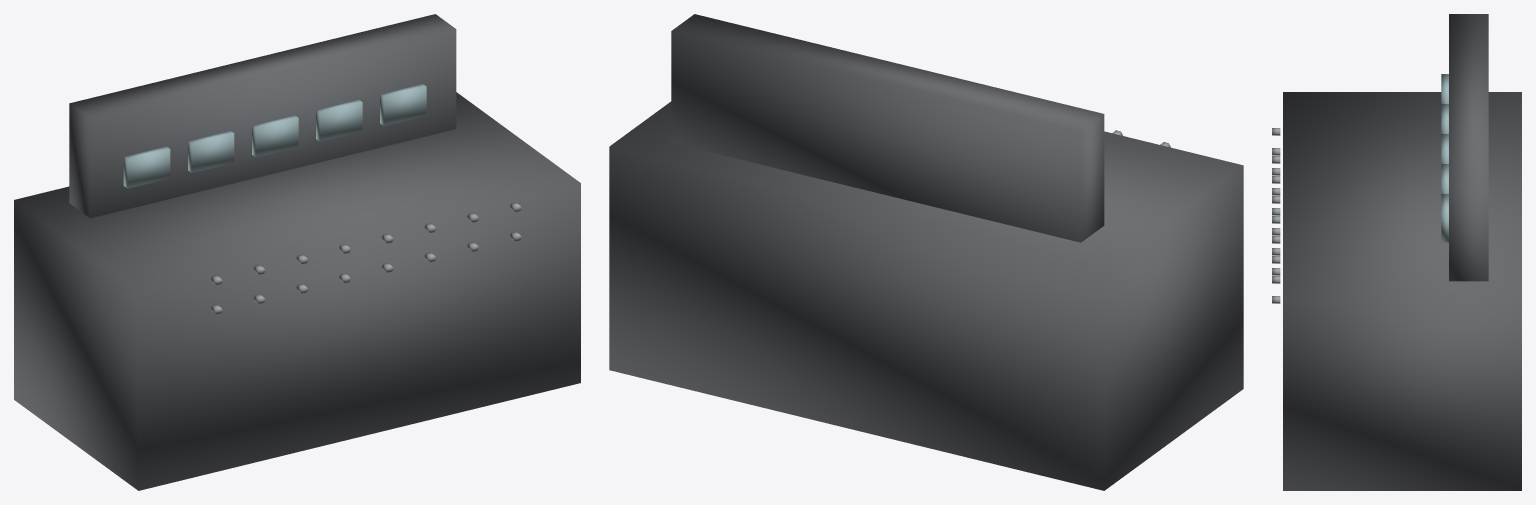
The model's file is dispatch_console__squat.glb.
3 renders of one model, left to right at view 1: azimuth 30°, elevation 25°; view 2: azimuth 150°, elevation 25°; view 3: azimuth 270°, elevation 25°, orthographic. The views are drawn at different scales.
Parts seen in each view (by area): view 1: world; view 2: world; view 3: world.
Boxes of the visible parts, bbox=[...] form: world: bbox=[14, 14, 580, 490]; world: bbox=[609, 14, 1243, 490]; world: bbox=[1272, 14, 1521, 490].
Size of the model in its own units: 1.6 by 1.03 by 0.8127.
